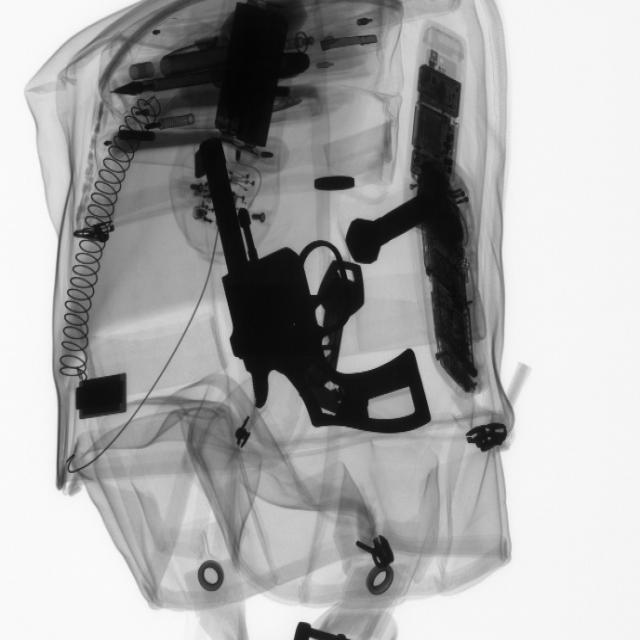GUN: (193, 136, 428, 439)
